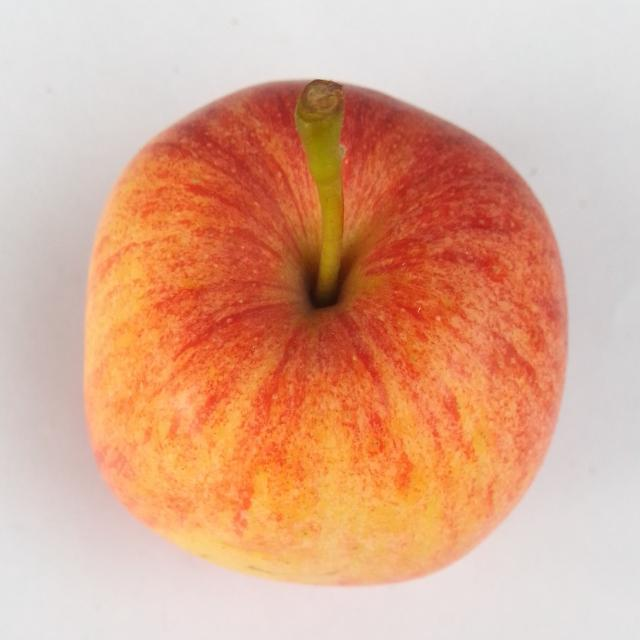Fresh Apple: (87, 80, 555, 587)
